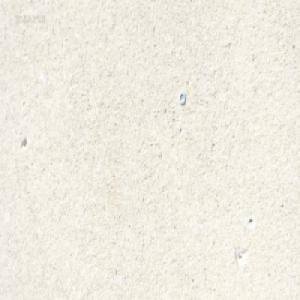Washer: (178, 91, 185, 105)
